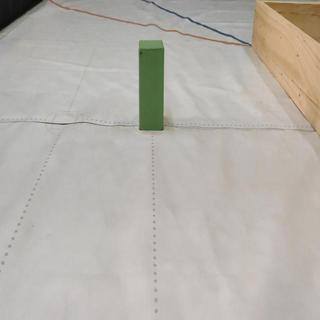greenbox: (137, 38, 167, 132)
